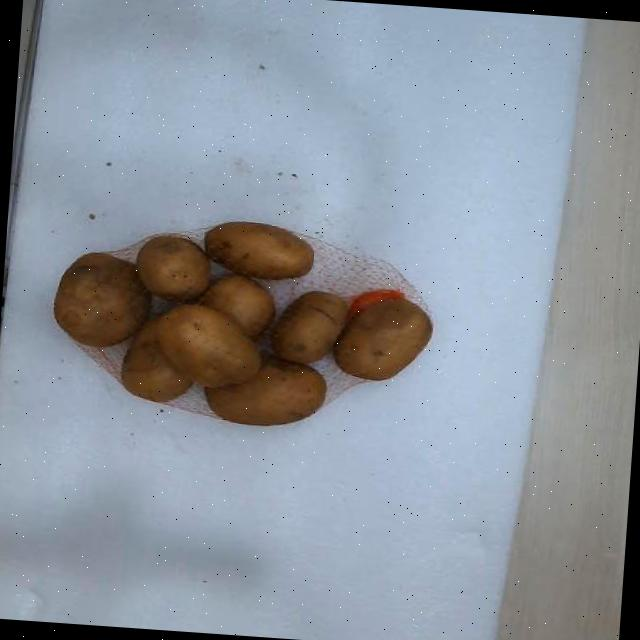potato: (53, 252, 150, 347), (155, 305, 260, 387), (333, 299, 431, 380), (205, 358, 324, 424), (204, 221, 312, 278), (121, 319, 192, 401), (271, 291, 345, 364), (136, 235, 209, 301), (200, 274, 273, 338)
